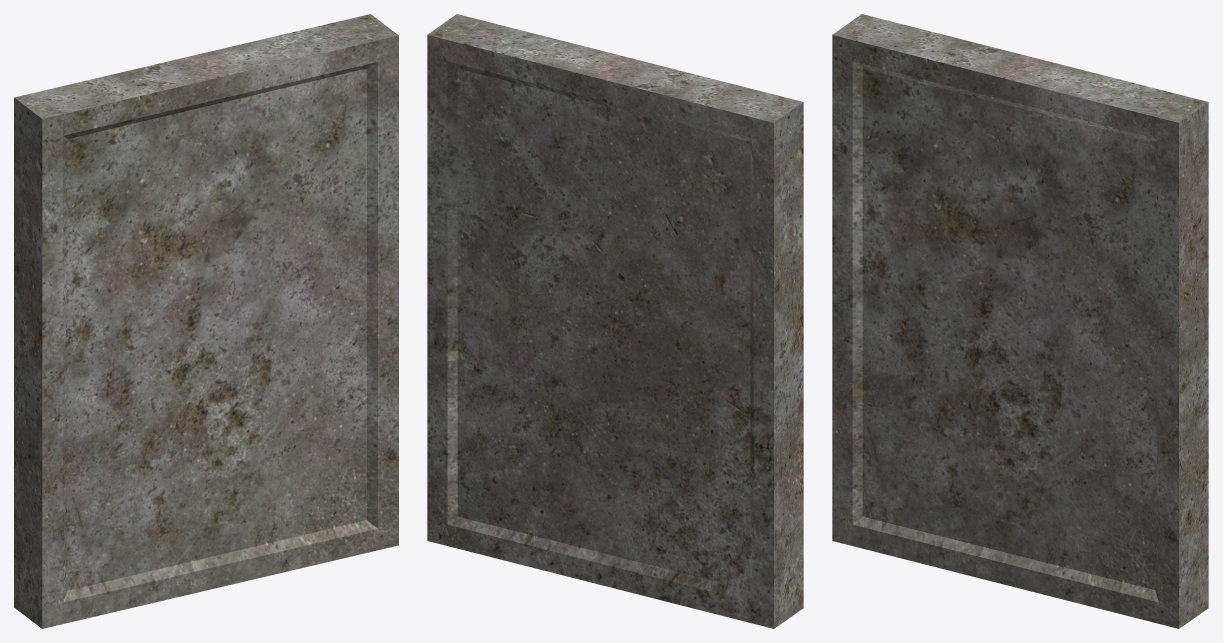
File: mg_12__plate_0.fbx
3 renders of one model, left to right at view 1: azimuth 30°, elevation 25°; view 2: azimuth 150°, elevation 25°; view 3: azimuth 330°, elevation 25°, orthographic.
Visible parts, largest first — view 1: mg_12__plate_0; view 2: mg_12__plate_0; view 3: mg_12__plate_0.
Part boxes in pixels (x1=…): mg_12__plate_0: x1=14, y1=14, x2=398, y2=628; mg_12__plate_0: x1=427, y1=14, x2=803, y2=628; mg_12__plate_0: x1=832, y1=14, x2=1208, y2=628.
Size of the model in its own units: 221 by 304 by 35.22.
